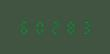eight: (63, 20, 77, 34)
six: (18, 20, 32, 34)
three: (78, 20, 92, 34)
two: (48, 20, 62, 34)
zero: (33, 20, 47, 34)
